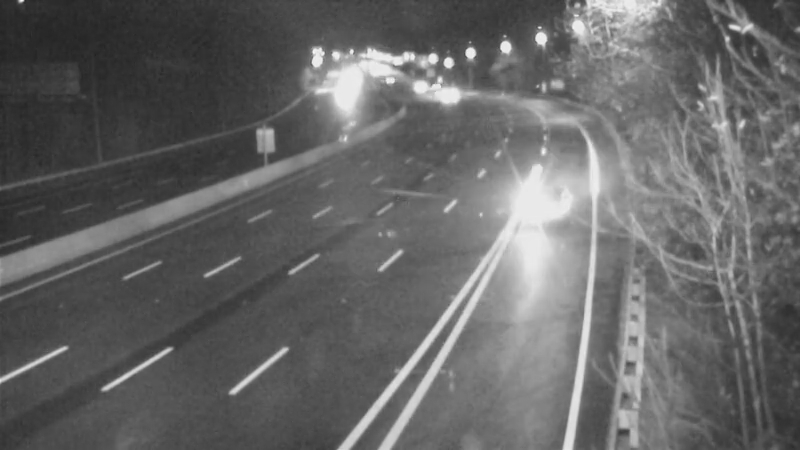vehicle: (515, 156, 595, 236), (364, 53, 414, 103), (409, 60, 459, 110), (390, 62, 440, 112), (423, 72, 473, 122)
